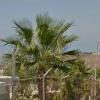Palm tree: (7, 11, 71, 99)
